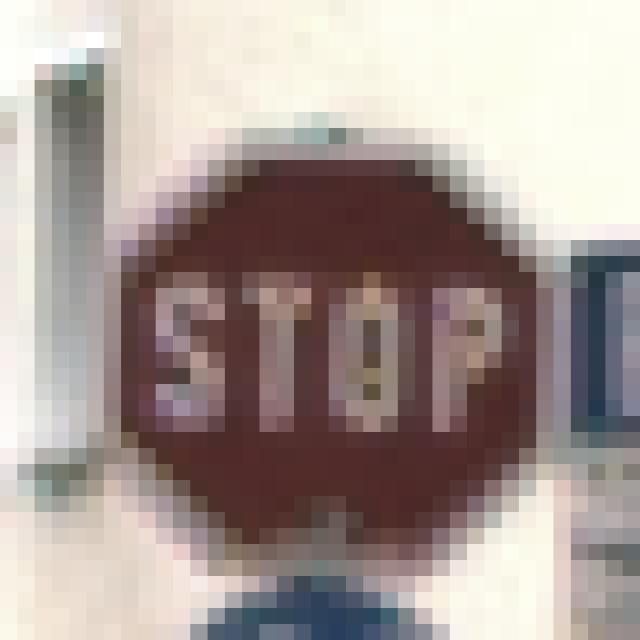STOP: (88, 97, 555, 561)
